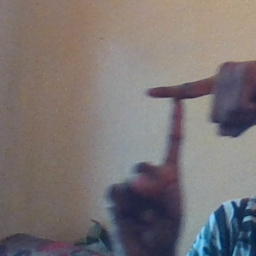T: (126, 64, 228, 198)
